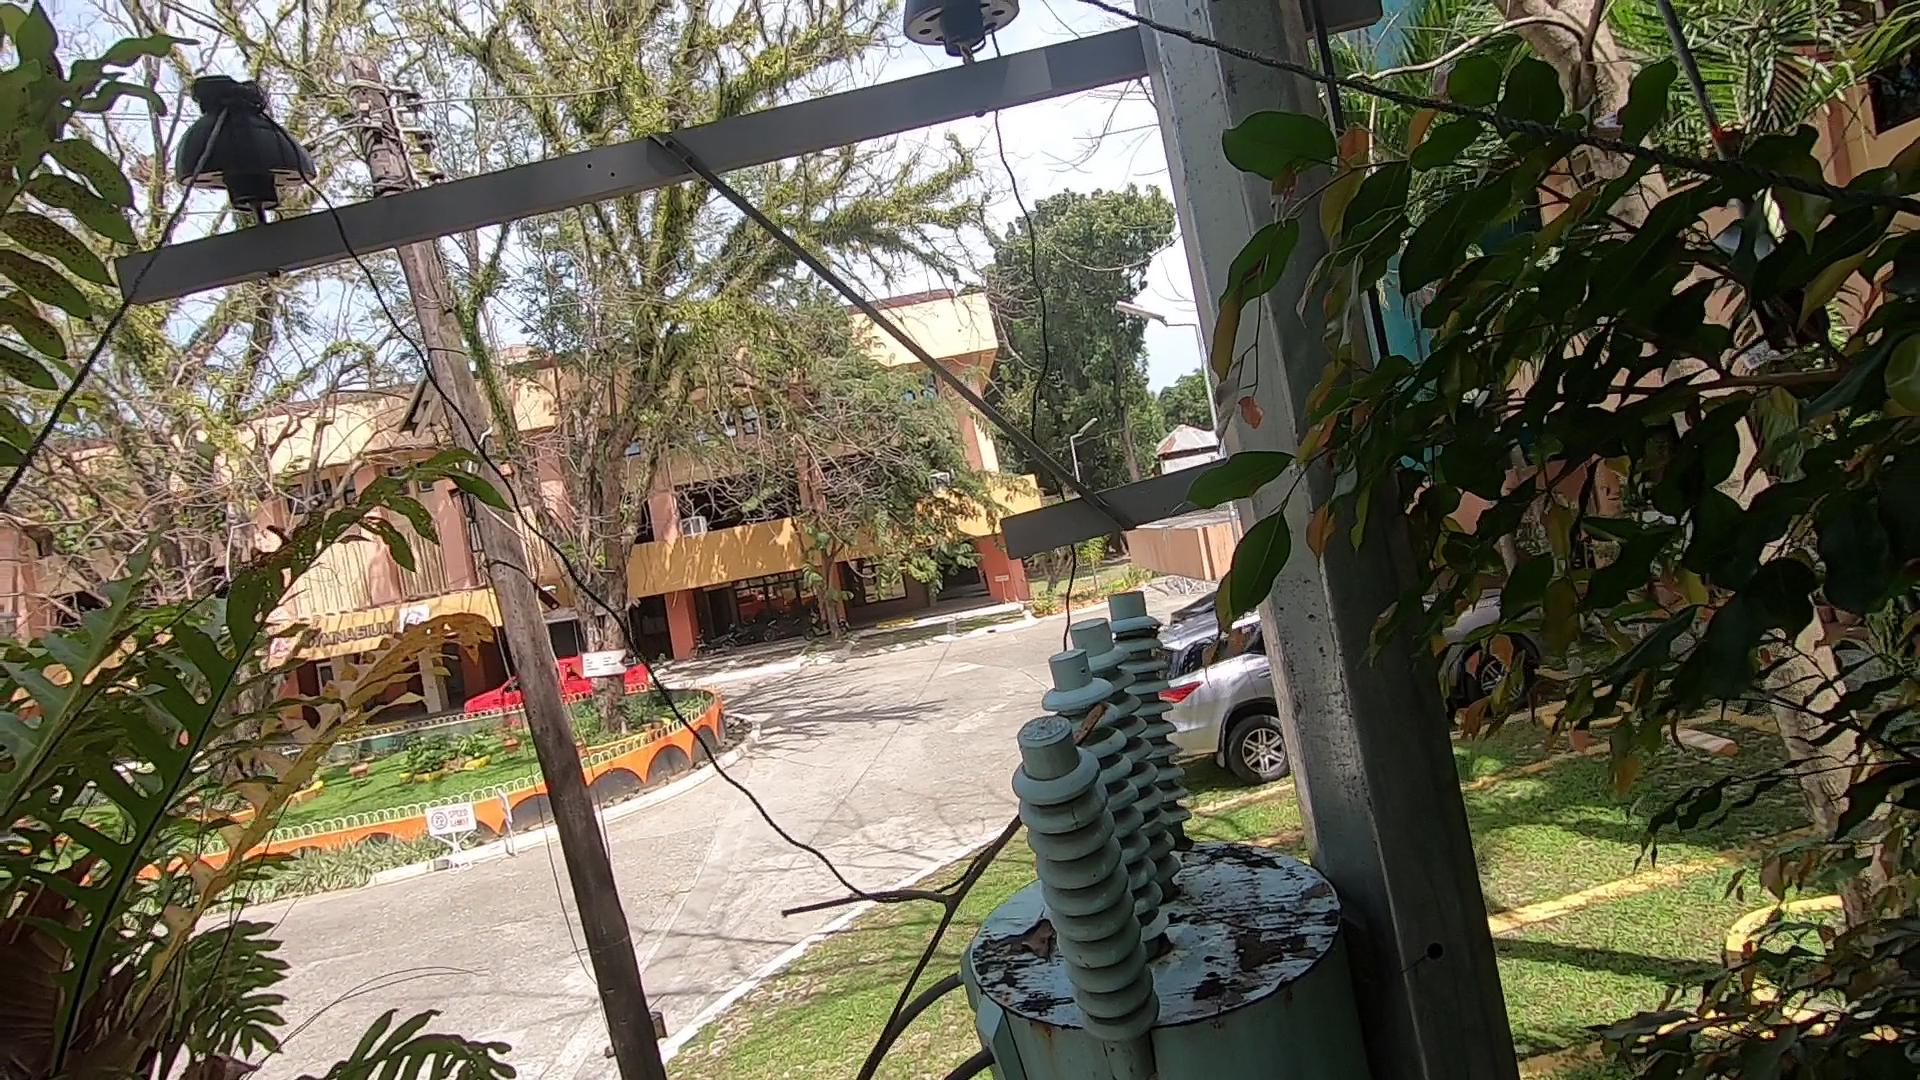leaf: (1006, 913, 1067, 986)
tree branch: (752, 696, 1160, 1077)
